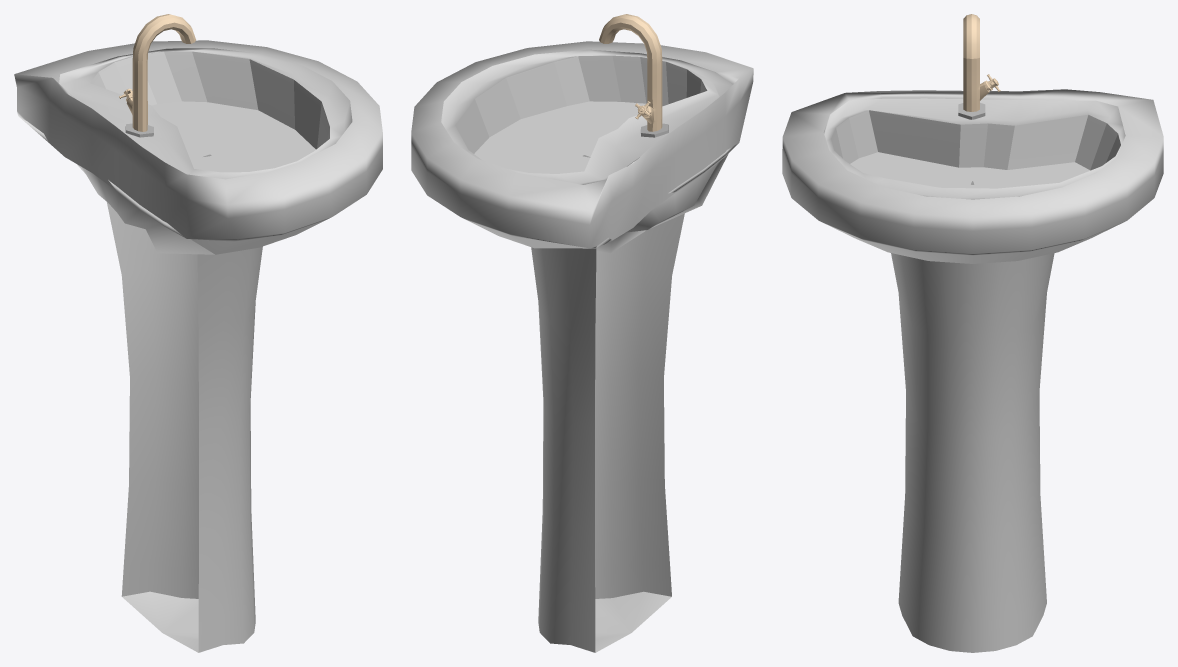
File: pia.fbx
3 views of the same model, side by side, from view 1: azimuth 30°, elevation 25°; view 2: azimuth 150°, elevation 25°; view 3: azimuth 270°, elevation 25° (orthographic). The views are drawn at different scales.
Visible parts, largest first — view 1: CUBA, SUPORET_CUBA, TORNERA; view 2: CUBA, SUPORET_CUBA, TORNERA; view 3: CUBA, SUPORET_CUBA, TORNERA.
Boxes of the visible parts, x1,y1,x2,y2 form: CUBA: [14, 40, 382, 254]; SUPORET_CUBA: [107, 202, 262, 652]; TORNERA: [126, 14, 195, 131]; CUBA: [411, 41, 753, 253]; SUPORET_CUBA: [531, 213, 684, 652]; TORNERA: [599, 14, 662, 131]; CUBA: [782, 89, 1163, 263]; SUPORET_CUBA: [891, 253, 1054, 652]; TORNERA: [963, 14, 989, 111].
Size of the model in its own units: 0.4727 by 1.12 by 0.6467.
